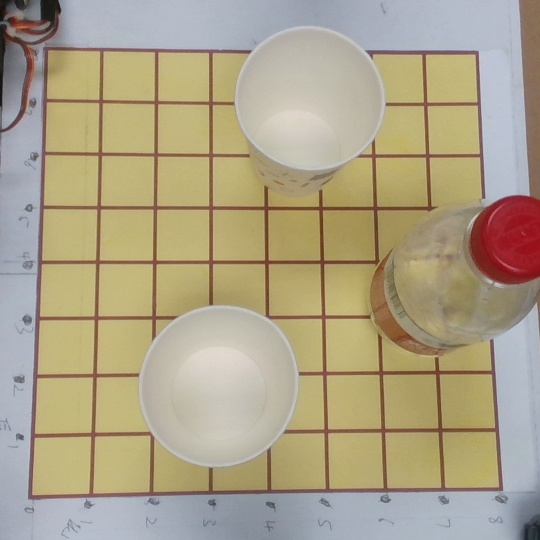bottle: (347, 193, 540, 366)
cup: (223, 24, 386, 213), (123, 304, 303, 473)
